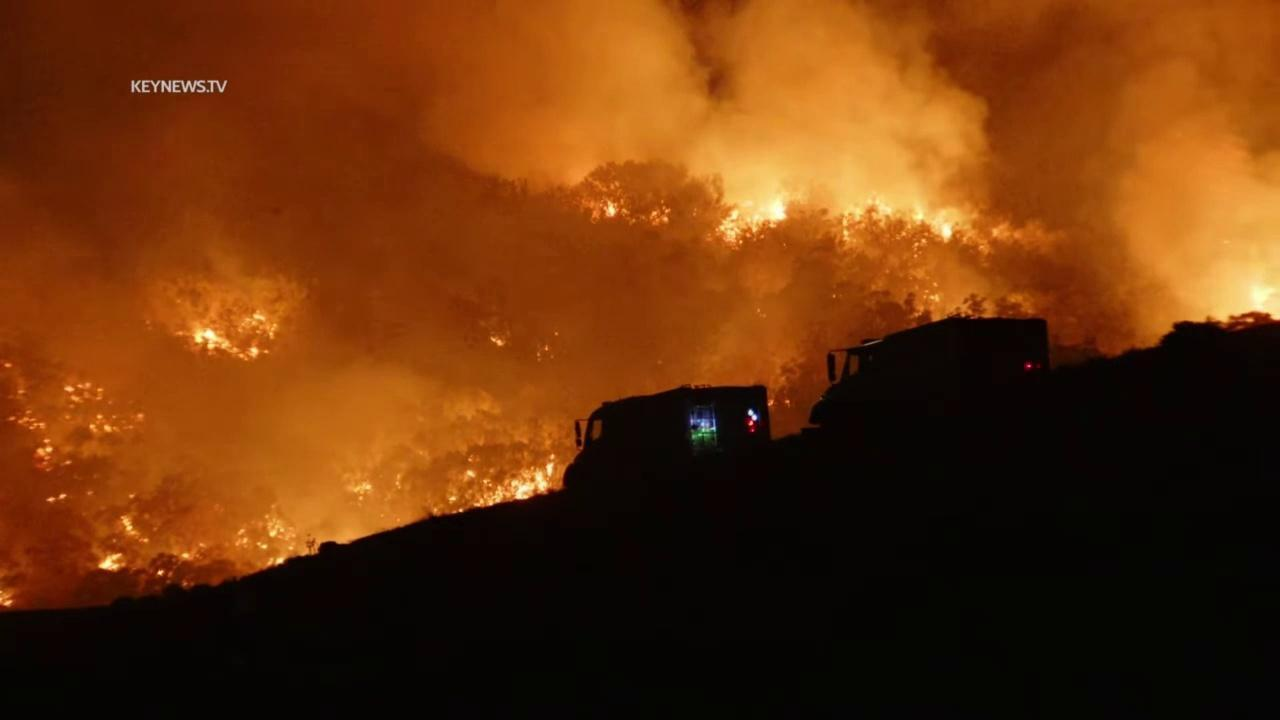fire: (446, 452, 557, 514), (841, 191, 955, 245), (171, 307, 279, 362), (704, 189, 790, 249), (231, 503, 299, 568), (87, 409, 146, 440), (1247, 276, 1280, 326), (119, 507, 152, 545), (60, 381, 106, 406), (30, 436, 56, 473), (6, 409, 47, 432), (92, 549, 129, 571), (350, 479, 375, 507), (598, 196, 621, 220), (0, 585, 17, 609), (487, 333, 508, 348), (44, 493, 68, 503), (928, 291, 941, 304), (181, 551, 192, 561), (156, 567, 165, 578)
smoke: (0, 0, 1280, 619)
